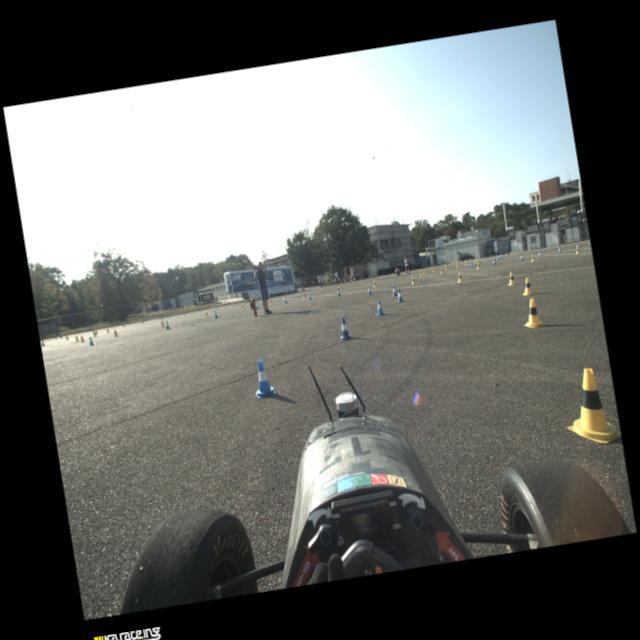blue_cone: (251, 358, 277, 399), (338, 317, 352, 341), (374, 298, 386, 316), (395, 288, 405, 303), (391, 284, 398, 296), (88, 336, 95, 346), (213, 310, 220, 319), (367, 285, 372, 295), (40, 338, 46, 346), (337, 288, 342, 296), (307, 292, 312, 300), (283, 296, 288, 304), (255, 302, 260, 310), (166, 320, 170, 330), (538, 252, 542, 258), (520, 254, 524, 260), (492, 256, 496, 262), (470, 262, 473, 268), (474, 260, 477, 266), (558, 248, 562, 252), (492, 260, 496, 264), (484, 259, 487, 264), (466, 262, 469, 267), (588, 242, 591, 246), (183, 311, 186, 315), (215, 305, 218, 309), (496, 256, 499, 260), (498, 255, 501, 259), (576, 244, 578, 250), (499, 255, 502, 258), (161, 316, 163, 320), (506, 254, 508, 258), (358, 278, 360, 282), (383, 274, 385, 277), (427, 266, 429, 269), (142, 320, 144, 322), (442, 264, 444, 266), (502, 254, 503, 257), (323, 285, 324, 288)
large_orange_cone: (360, 276, 362, 282)
yellow_cone: (558, 364, 622, 450), (520, 297, 543, 330), (520, 276, 534, 296), (506, 271, 516, 286), (457, 272, 462, 282), (372, 280, 378, 288), (114, 329, 120, 337), (530, 255, 536, 262), (240, 303, 246, 310), (80, 334, 85, 342), (75, 334, 80, 342), (411, 276, 415, 285), (575, 247, 580, 254), (476, 262, 480, 270), (204, 310, 208, 318), (336, 286, 341, 292), (160, 320, 164, 327), (93, 330, 97, 337), (440, 268, 444, 274), (302, 292, 306, 298), (269, 298, 273, 304), (106, 328, 110, 333), (66, 335, 70, 340), (298, 289, 302, 294), (95, 329, 98, 335), (122, 322, 125, 328), (464, 260, 467, 266), (60, 334, 64, 338), (445, 265, 448, 270), (167, 314, 170, 319), (233, 301, 236, 306), (285, 291, 288, 296), (420, 270, 422, 276), (423, 270, 426, 274), (432, 268, 435, 272), (140, 320, 143, 324), (192, 310, 195, 314), (327, 284, 330, 288), (368, 276, 371, 280), (456, 263, 458, 268), (475, 258, 477, 263), (314, 286, 316, 290), (392, 272, 394, 276), (429, 266, 432, 268), (418, 268, 420, 271), (381, 274, 382, 278), (444, 264, 446, 266)
